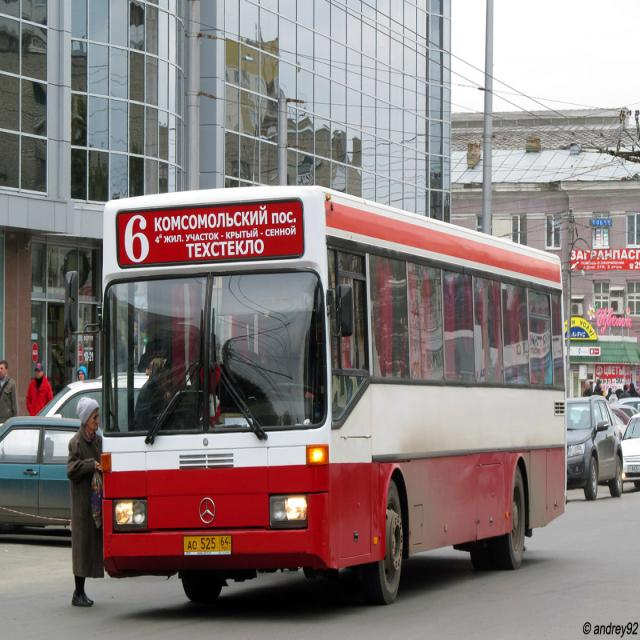number-of-bus: (120, 209, 157, 268)
